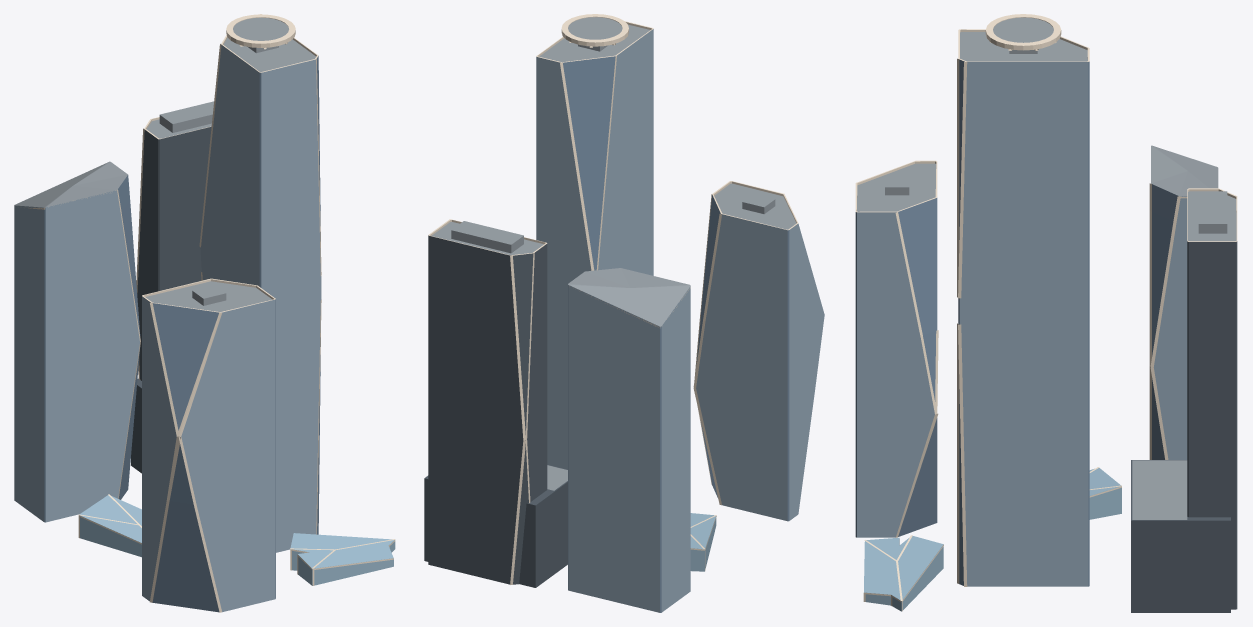
The model's file is seoul-ifc.glb.
3 renders of one model, left to right at view 1: azimuth 30°, elevation 25°; view 2: azimuth 150°, elevation 25°; view 3: azimuth 270°, elevation 25°, orthographic. The views are drawn at different scales.
Parts seen in each view (by area): view 1: IFC Seoul; view 2: IFC Seoul; view 3: IFC Seoul.
Part boxes in pixels (box(x1,y1,x2,y2)): IFC Seoul: box(14, 14, 395, 612); IFC Seoul: box(424, 14, 824, 612); IFC Seoul: box(855, 14, 1237, 612).
Size of the model in its own units: 148 by 292 by 189.
